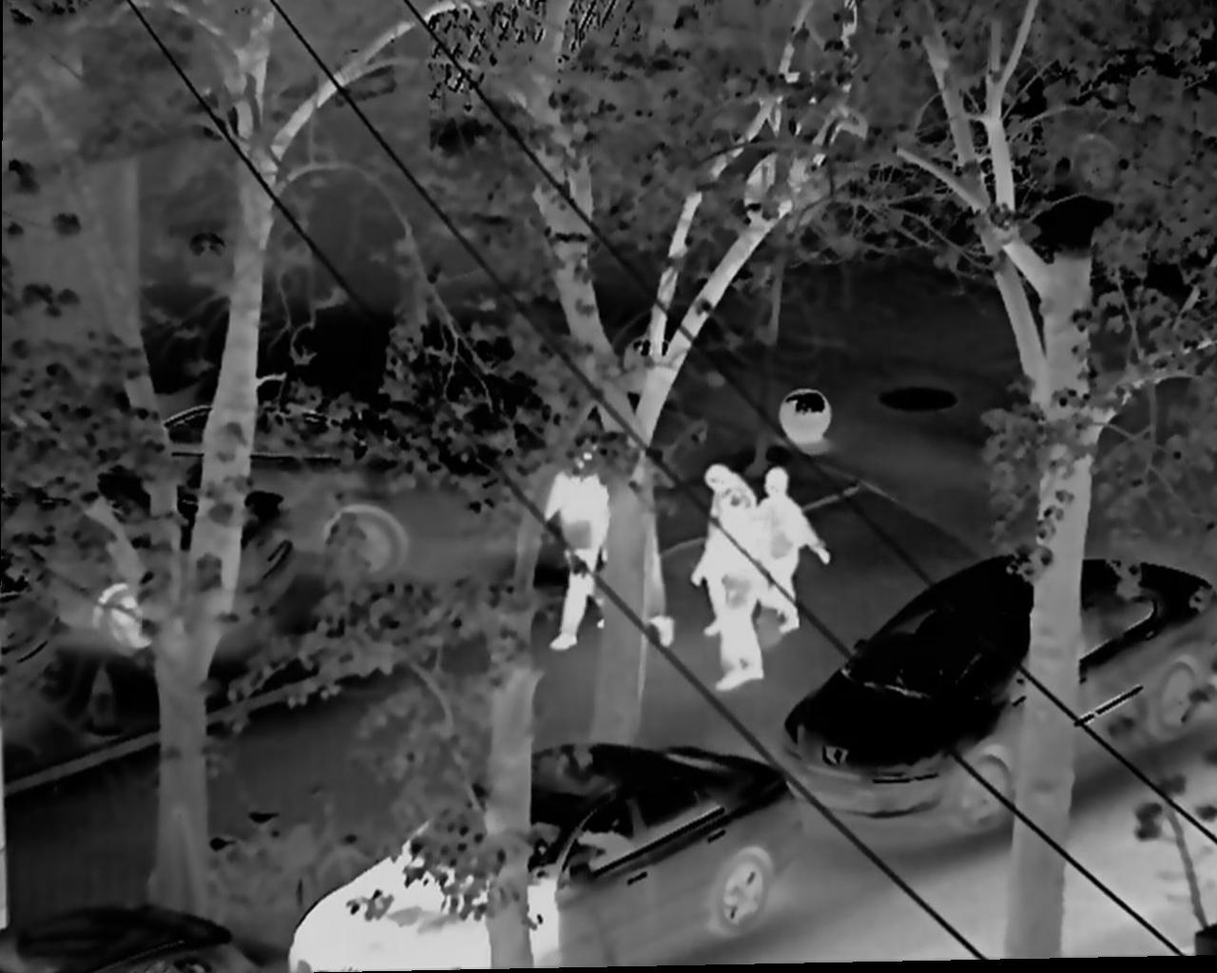person: (687, 460, 769, 698), (546, 449, 613, 673), (749, 466, 826, 638), (596, 508, 668, 656)
